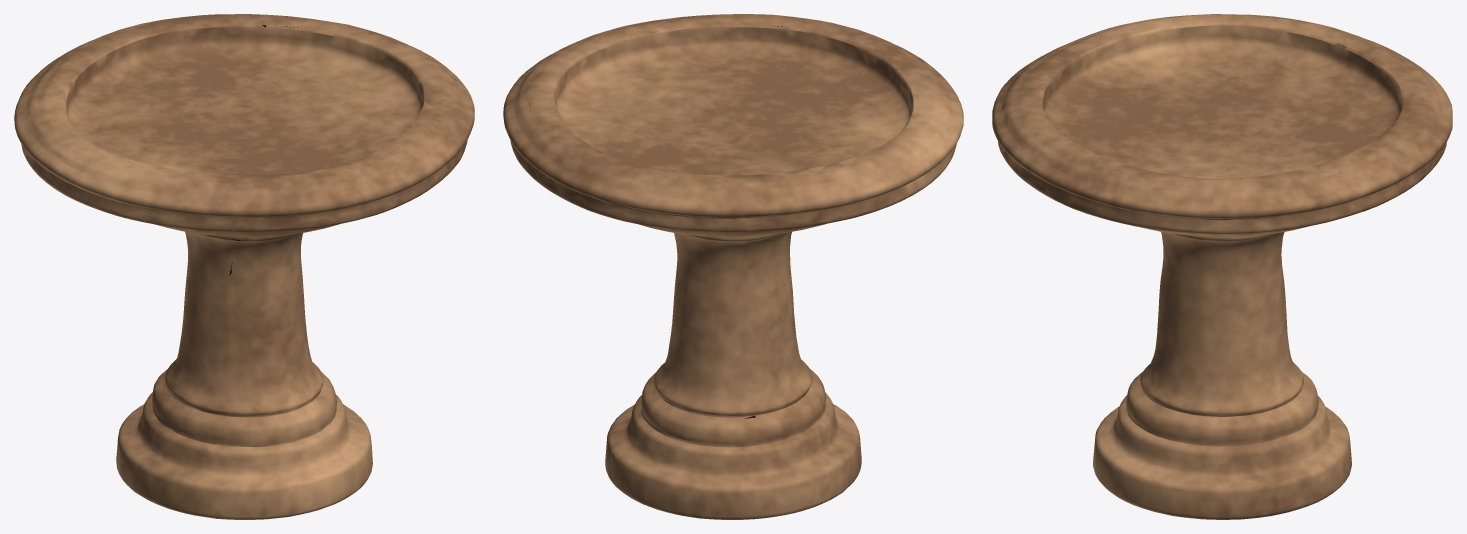
Rendered from sandstone-birdbath-v002.glb.
3 views of the same model, side by side, from view 1: azimuth 30°, elevation 25°; view 2: azimuth 150°, elevation 25°; view 3: azimuth 270°, elevation 25° (orthographic).
Parts seen in each view (by area): view 1: sandstone-birdbath; view 2: sandstone-birdbath; view 3: sandstone-birdbath.
Boxes of the visible parts, bbox=[...] form: sandstone-birdbath: bbox=[14, 14, 474, 519]; sandstone-birdbath: bbox=[503, 14, 963, 519]; sandstone-birdbath: bbox=[992, 14, 1452, 519].
Size of the model in its own units: 0.6771 by 0.6001 by 0.676.
Materials: 1 (1 with a texture image).
